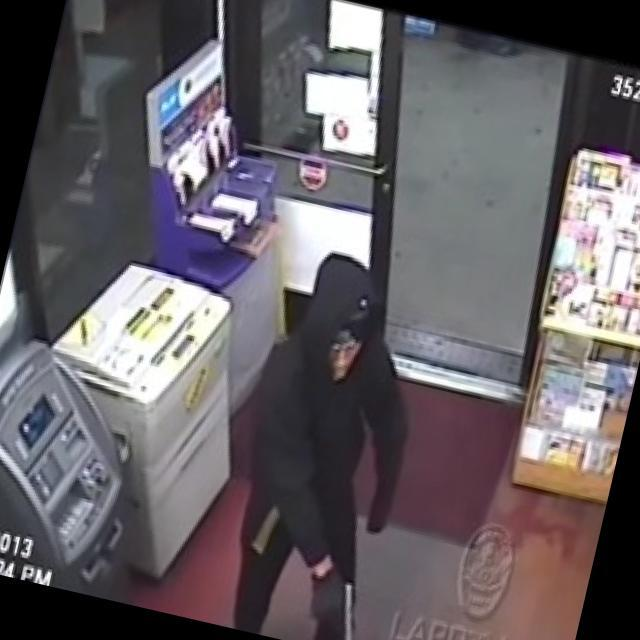Gun: (304, 563, 367, 640)
